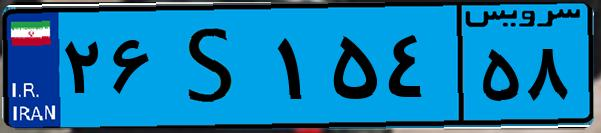1: (270, 28, 330, 110)
2: (57, 26, 110, 100)
4: (385, 28, 445, 110)
5: (330, 28, 385, 110), (475, 38, 525, 113)
6: (110, 28, 158, 98)
8: (525, 38, 570, 115)
S: (158, 12, 270, 120)
